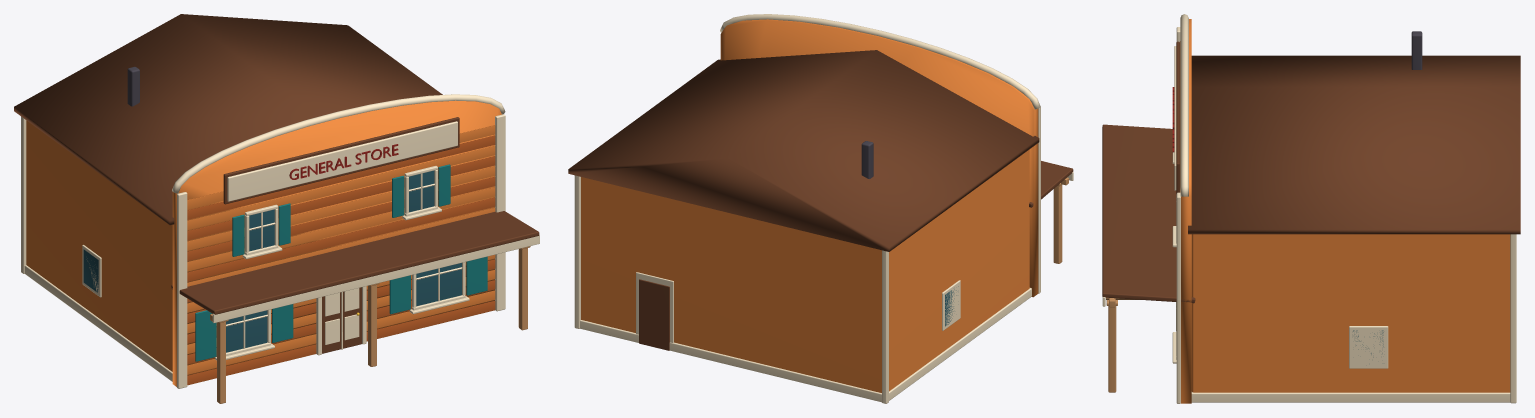
The model's file is gulch_store.glb.
3 views of the same model, side by side, from view 1: azimuth 30°, elevation 25°; view 2: azimuth 150°, elevation 25°; view 3: azimuth 270°, elevation 25° (orthographic). The views are drawn at different scales.
Visible parts, largest first — view 1: Store; view 2: Store; view 3: Store.
Part boxes in pixels (<box>): Store: <box>14,14,539,403</box>; Store: <box>568,14,1073,403</box>; Store: <box>1102,14,1520,403</box>.
Bounding box in the file's own units: 11.5 × 7.74 × 11.7.
